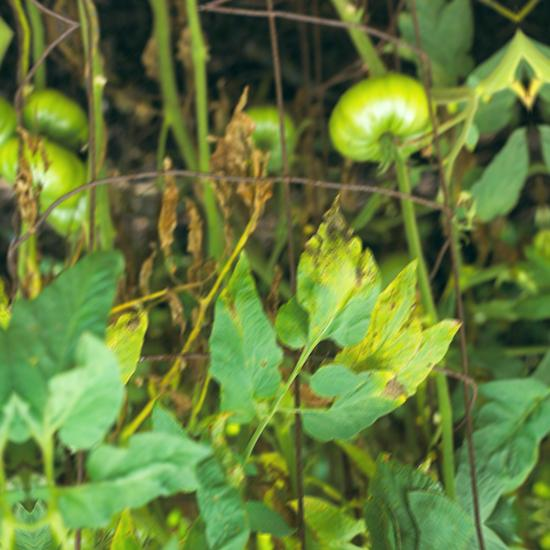Tomato Septoria leaf spot: (285, 194, 392, 348), (321, 253, 434, 392), (353, 304, 479, 416)
